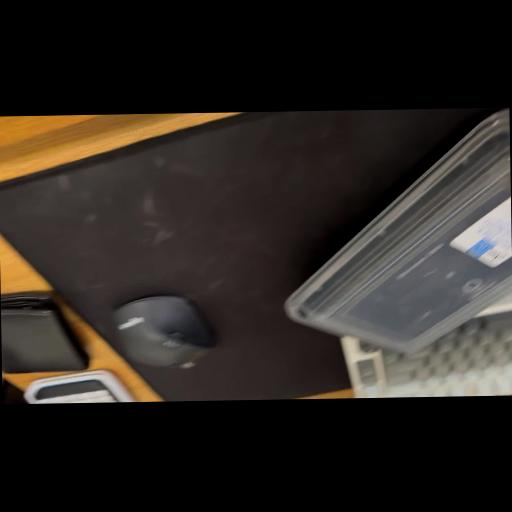rigid_plastic_container: (281, 107, 512, 355)
